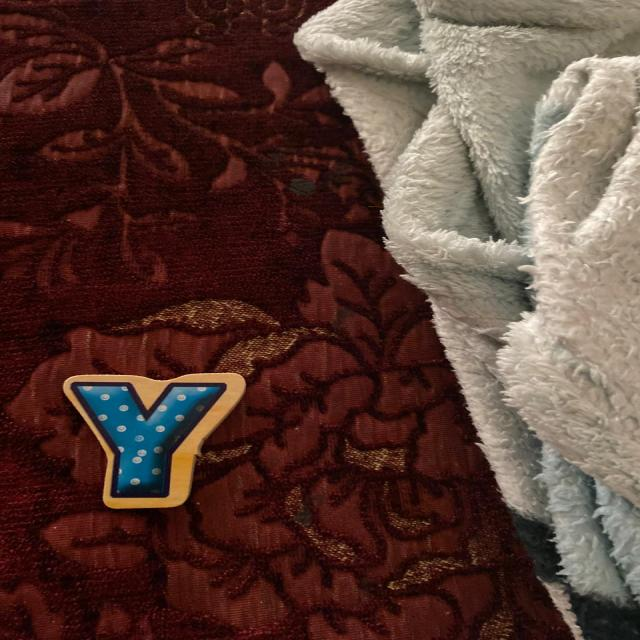Y: (63, 372, 245, 508)
